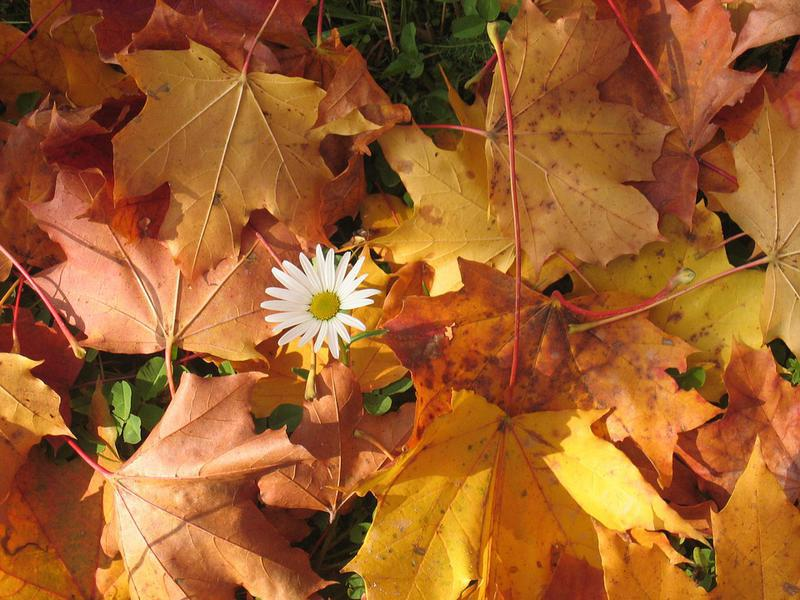leaf: (347, 355, 713, 600), (91, 367, 347, 600), (99, 42, 340, 283), (464, 2, 677, 274), (2, 341, 80, 451)
